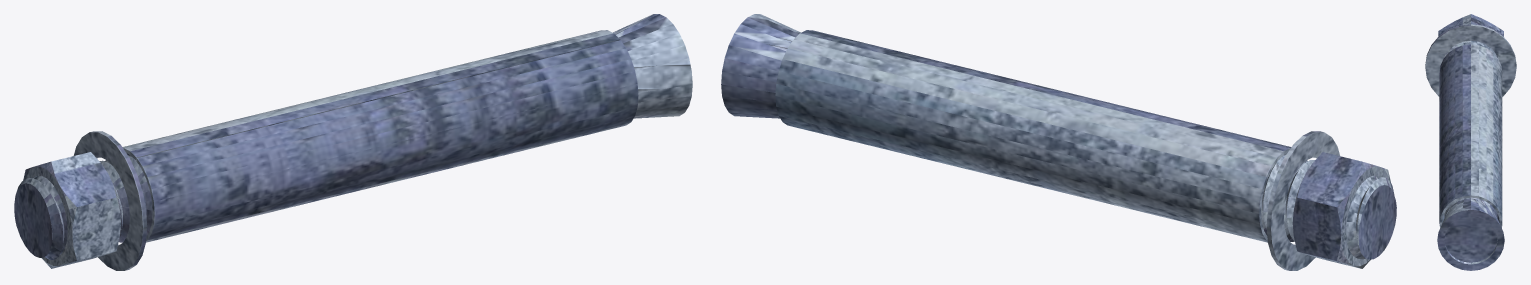
The model's file is dynabolt.glb.
The picture shows the model from 3 angles, left to right: view 1: azimuth 30°, elevation 25°; view 2: azimuth 150°, elevation 25°; view 3: azimuth 270°, elevation 25°; orthographic projection. The views are drawn at different scales.
Visible parts, largest first — view 1: Dynabolt; view 2: Dynabolt; view 3: Dynabolt.
Boxes of the visible parts, x1,y1,x2,y2 form: Dynabolt: [14, 14, 692, 270]; Dynabolt: [721, 14, 1396, 270]; Dynabolt: [1425, 14, 1516, 270].
Size of the model in its own units: 5.53 by 1.09 by 1.09.
Materials: 1 (1 with a texture image).
